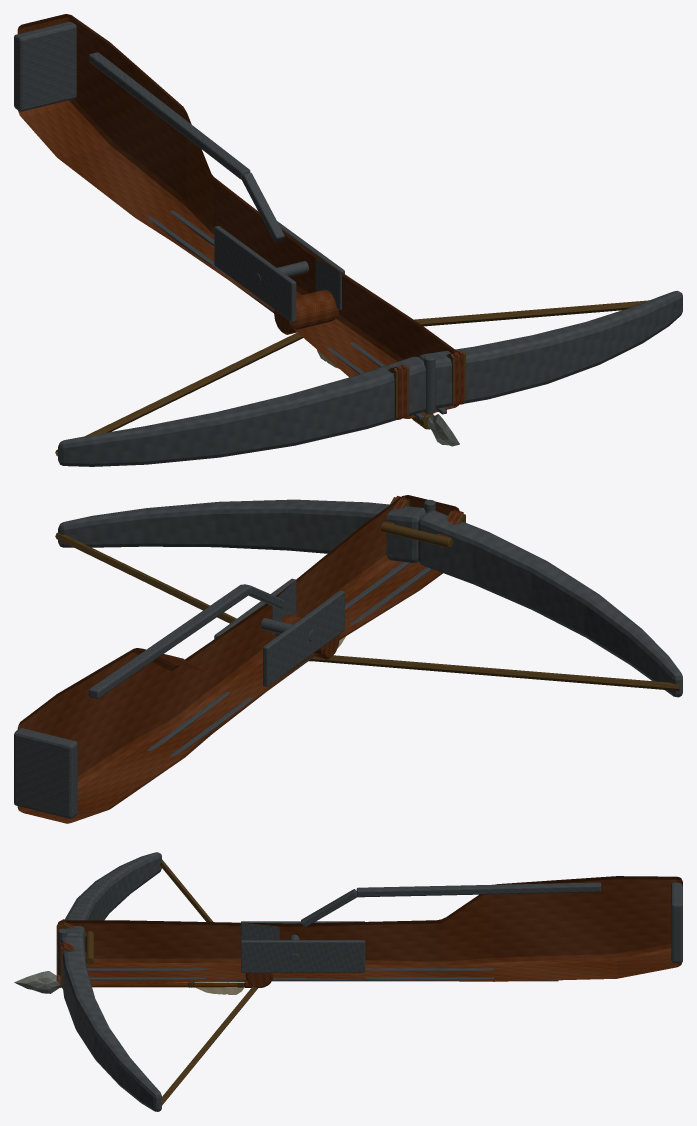
File: AuxiliaHeavyArbalestCockedStoneBolt.fbx
3 views of the same model, one above another, from view 1: azimuth 30°, elevation 25°; view 2: azimuth 150°, elevation 25°; view 3: azimuth 270°, elevation 25° (orthographic). The views are drawn at different scales.
Parts seen in each view (by area): view 1: AuxiliaHeavyArbalestCockedStoneBolt_GameExport; view 2: AuxiliaHeavyArbalestCockedStoneBolt_GameExport; view 3: AuxiliaHeavyArbalestCockedStoneBolt_GameExport.
Part boxes in pixels (x1,y1,x2,y2): AuxiliaHeavyArbalestCockedStoneBolt_GameExport: [14, 14, 682, 466]; AuxiliaHeavyArbalestCockedStoneBolt_GameExport: [14, 495, 682, 823]; AuxiliaHeavyArbalestCockedStoneBolt_GameExport: [14, 852, 682, 1111].
Bounding box in the file's own units: 29.64 × 34.4 × 6.29.
